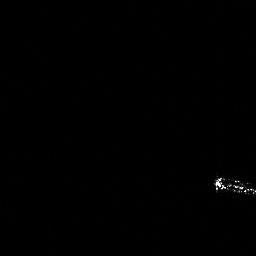ship: (211, 175, 256, 194)
